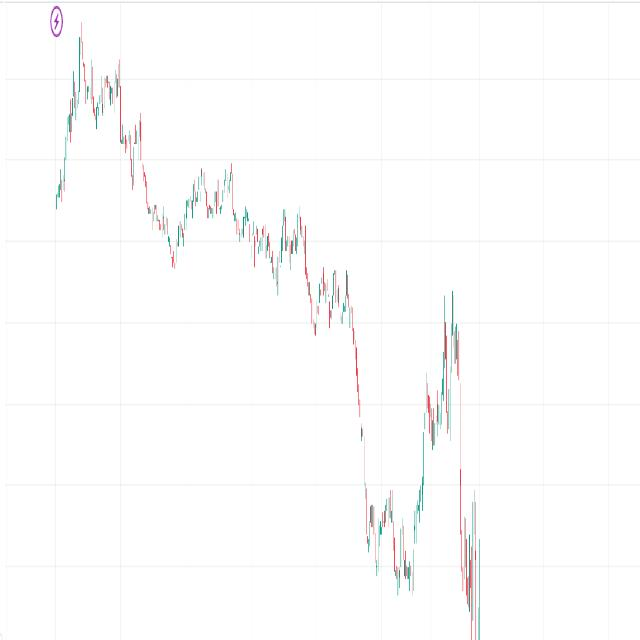Triple-Top: (313, 258, 356, 338)
